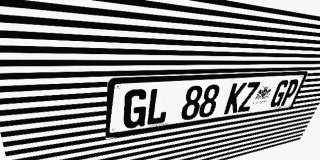8: (180, 85, 205, 121), (197, 84, 222, 118)
G: (122, 89, 149, 129), (268, 80, 291, 108)
K: (223, 82, 247, 114)
L: (145, 87, 171, 126)
P: (279, 79, 301, 106)
Z: (237, 82, 261, 112)
